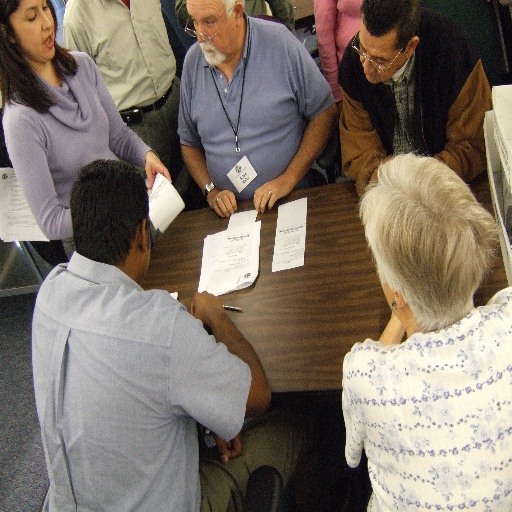hand: (252, 175, 289, 211), (186, 286, 220, 321), (146, 149, 171, 189), (209, 433, 242, 463), (205, 187, 237, 216), (336, 100, 344, 112)
